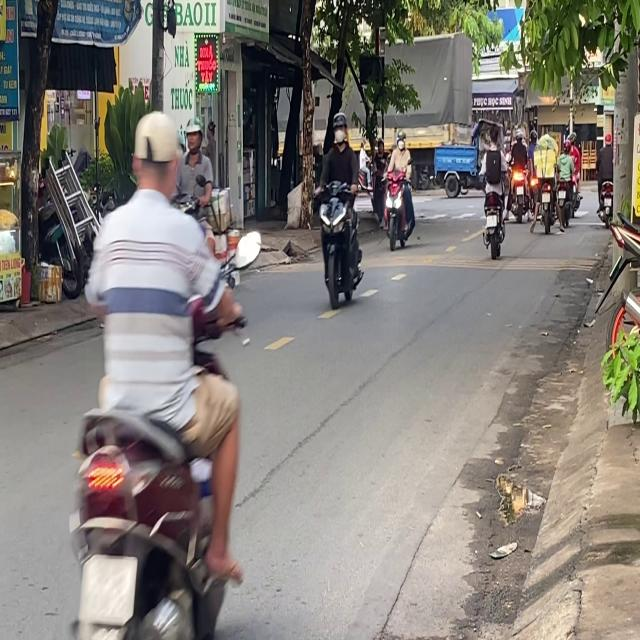helmet: (185, 115, 204, 156), (332, 111, 348, 146)
licenseplate: (63, 106, 252, 635), (315, 110, 365, 307)
motorcyclist: (129, 109, 182, 202)
nohelmet: (79, 556, 136, 624)
